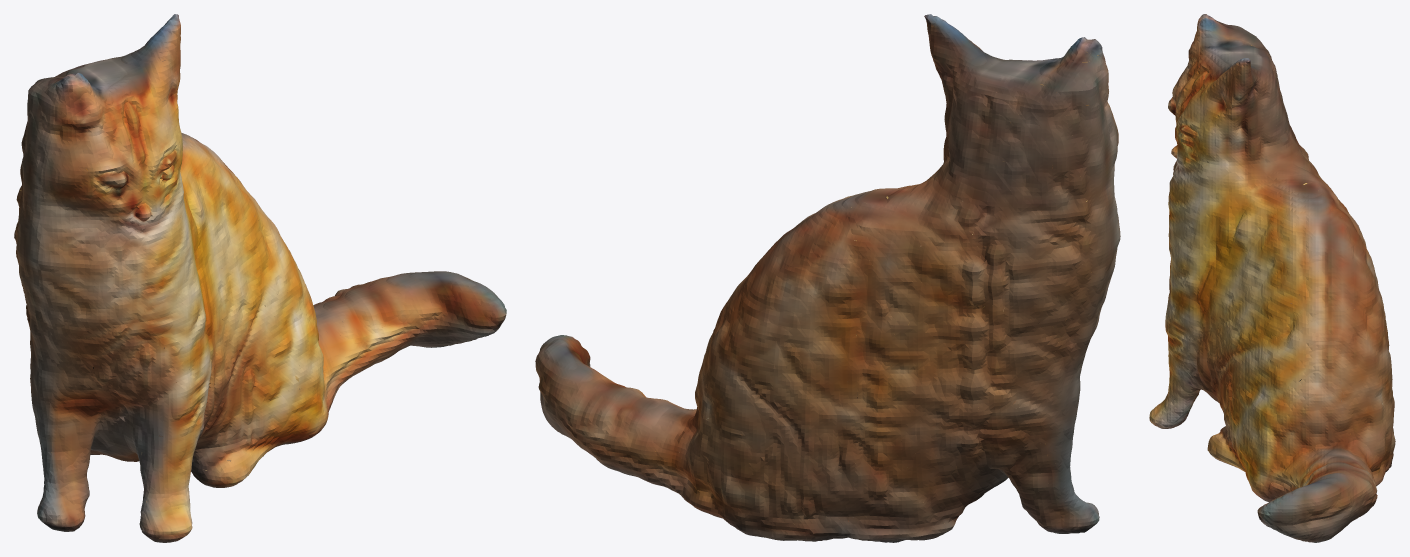
The model's file is local_20260928_214626.glb.
The picture shows the model from 3 angles, left to right: view 1: azimuth 30°, elevation 25°; view 2: azimuth 150°, elevation 25°; view 3: azimuth 270°, elevation 25°; orthographic projection. The views are drawn at different scales.
Visible parts, largest first — view 1: geometry_0; view 2: geometry_0; view 3: geometry_0.
Boxes of the visible parts, x1=… form: geometry_0: x1=14, y1=14, x2=506, y2=542; geometry_0: x1=535, y1=14, x2=1120, y2=542; geometry_0: x1=1149, y1=14, x2=1395, y2=542.
Size of the model in its own units: 1.02 by 0.9167 by 0.5234.
1 material, 1 textured.
